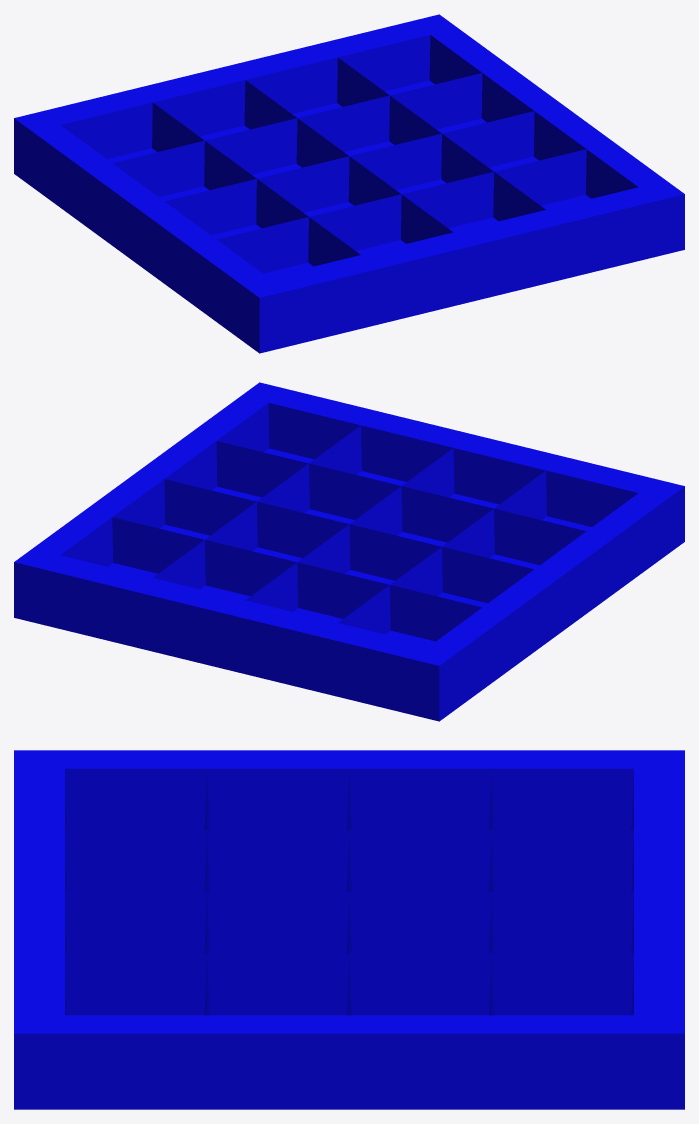
File: Electric Motor (Bin).fbx
3 renders of one model, top to bottom at view 1: azimuth 30°, elevation 25°; view 2: azimuth 150°, elevation 25°; view 3: azimuth 270°, elevation 25°, orthographic. The views are drawn at different scales.
Visible parts, largest first — view 1: Gearbox bin.002; view 2: Gearbox bin.002; view 3: Gearbox bin.002.
Boxes of the visible parts, box(x1,y1,x2,y2) form: Gearbox bin.002: box(14, 14, 684, 353); Gearbox bin.002: box(14, 382, 684, 721); Gearbox bin.002: box(14, 750, 684, 1109).
Bounding box in the file's own units: 20.32 × 2.54 × 20.32.
